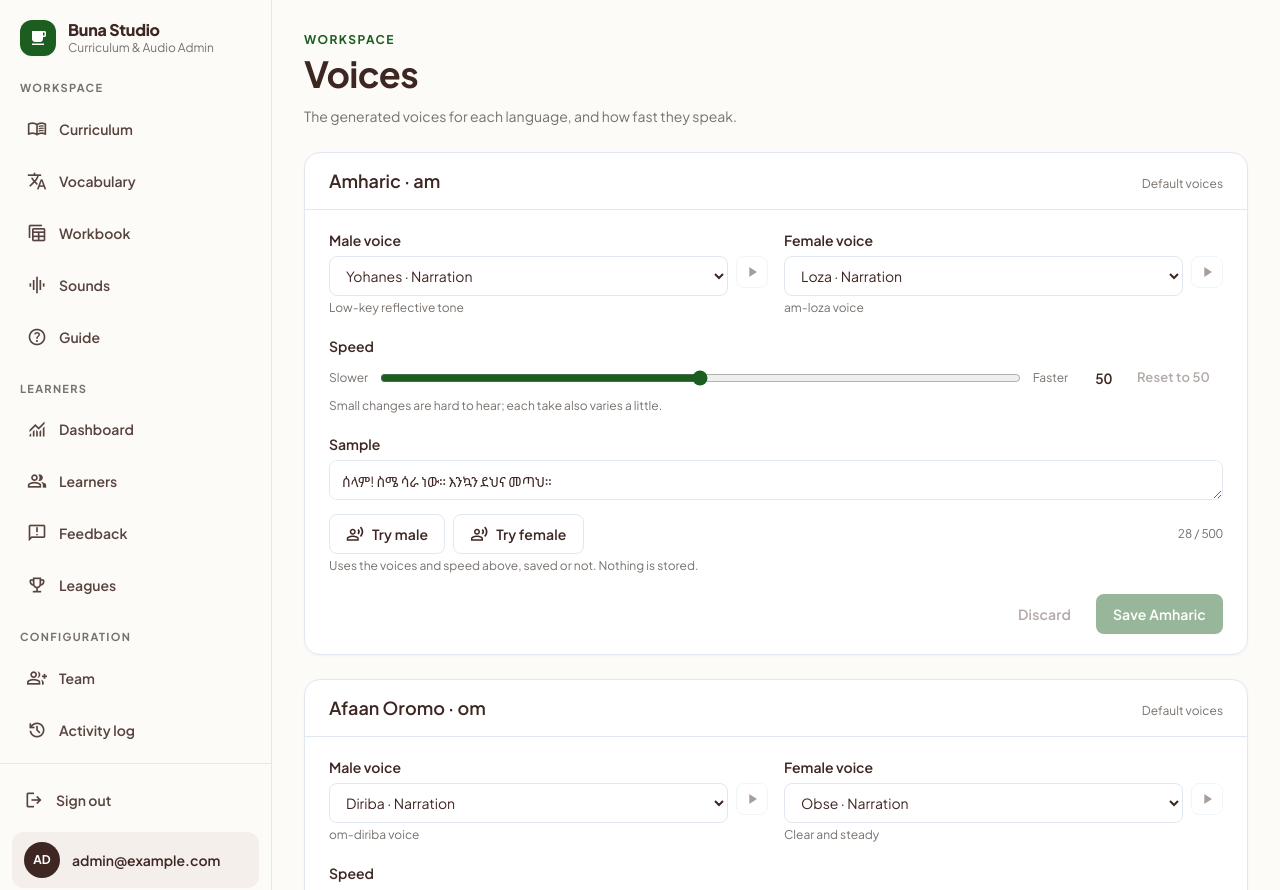
the voices page › shows the server’s refusal under the field it is about
Select "Hawi · Educational" in the 2nd dropdown labelled "Female voice": point(984, 803) [784,783,1183,823]
(page scrolled)
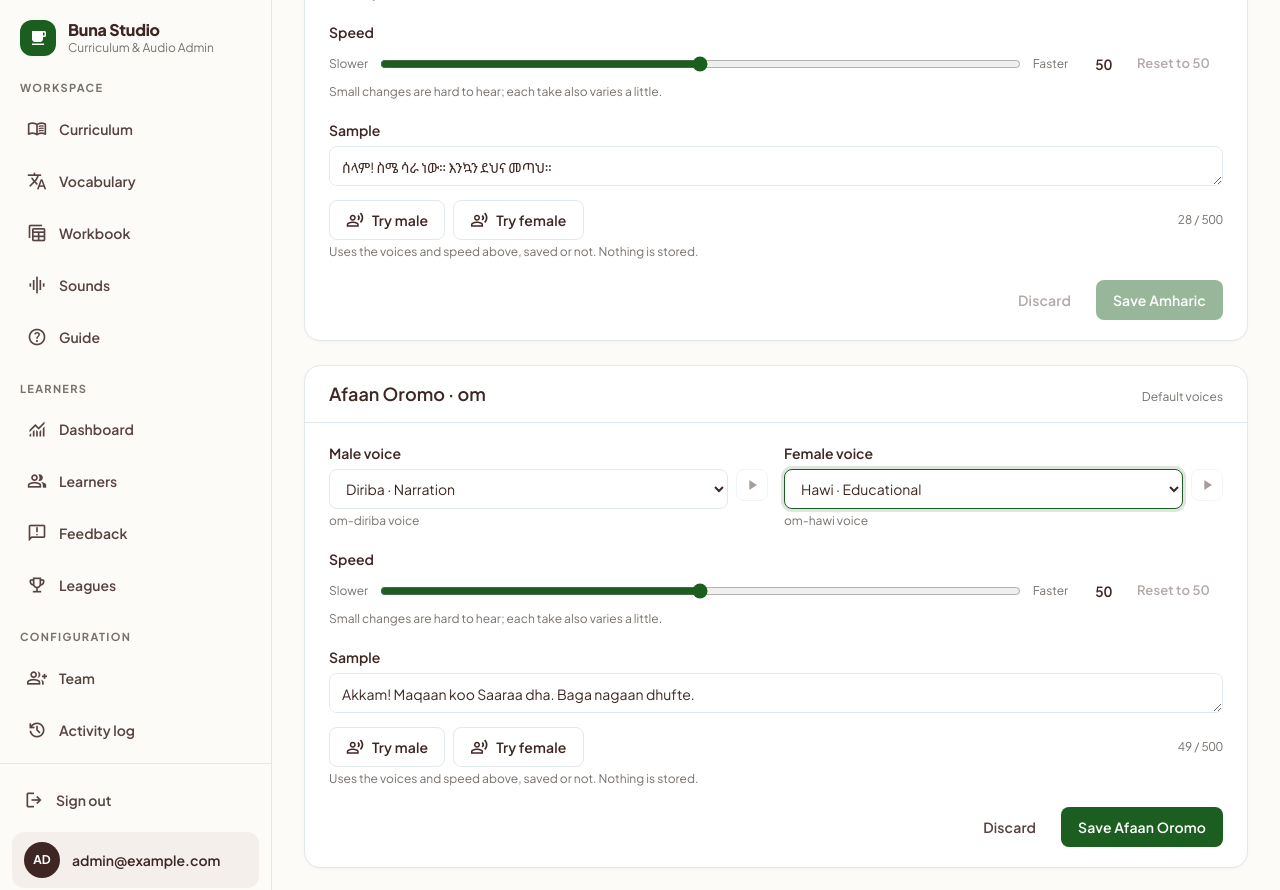
Click the button "Save Afaan Oromo": point(1142, 827) [1061,807,1223,847]
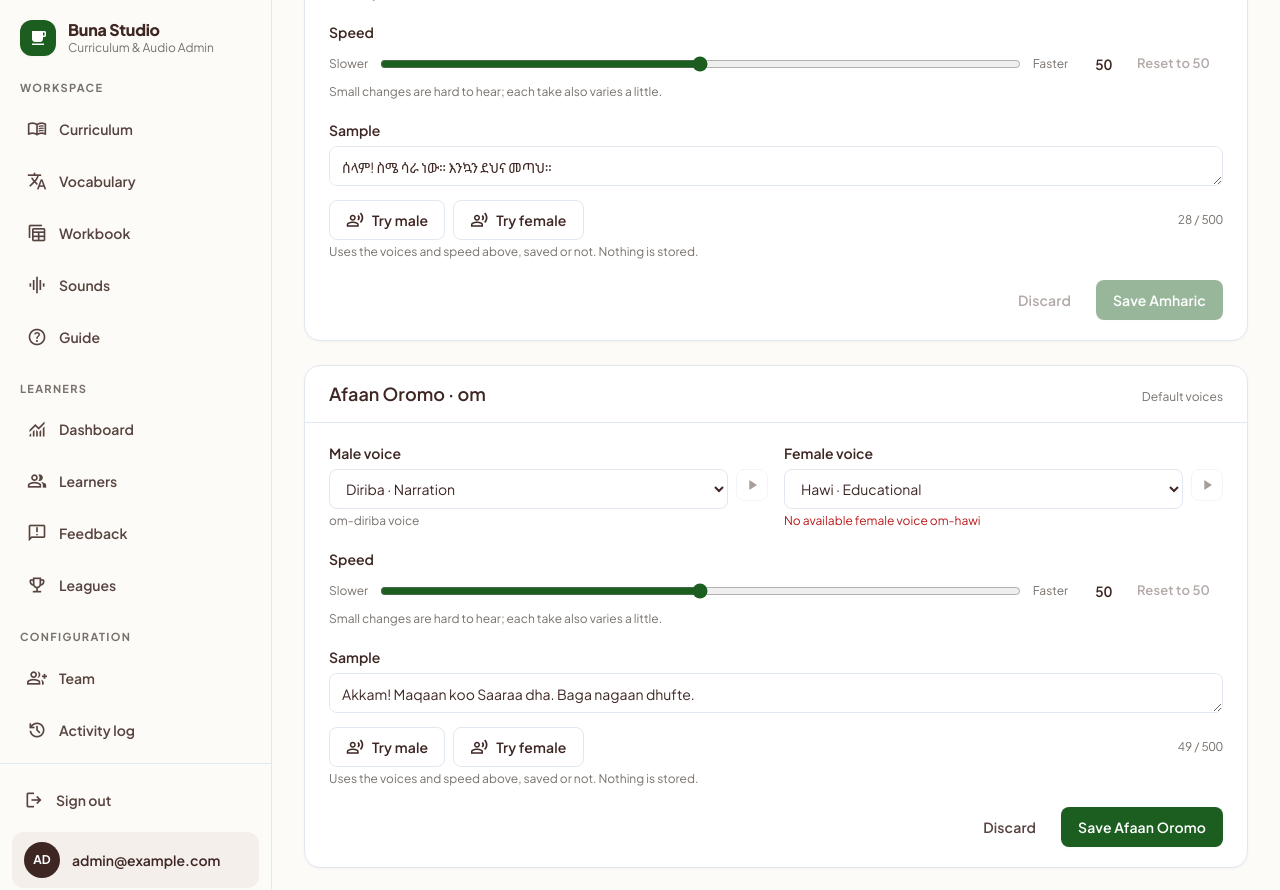
Result: the text "No available female voice om-hawi" is shown at [784,513,981,528]
